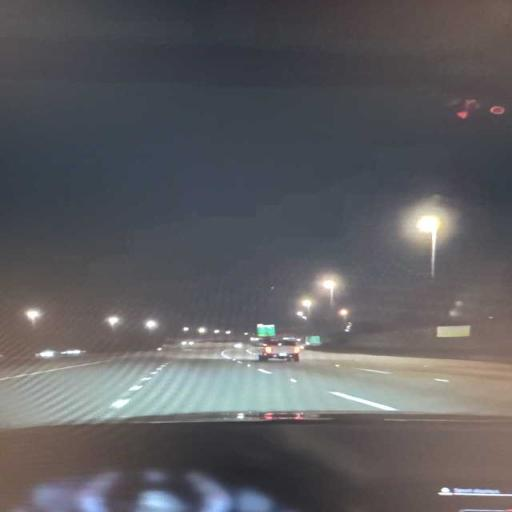car: (259, 340, 300, 361)
lane: (0, 343, 511, 426), (0, 355, 156, 426)
